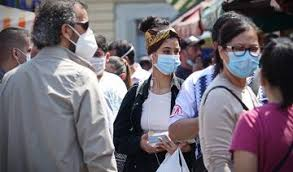with_mask: (65, 9, 97, 60), (227, 35, 259, 77), (157, 40, 180, 75)
